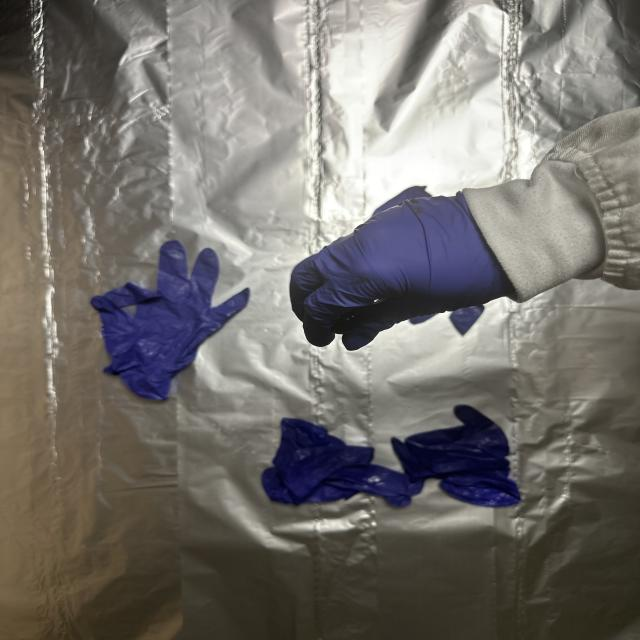gloves_contaminated: (290, 190, 512, 350)
